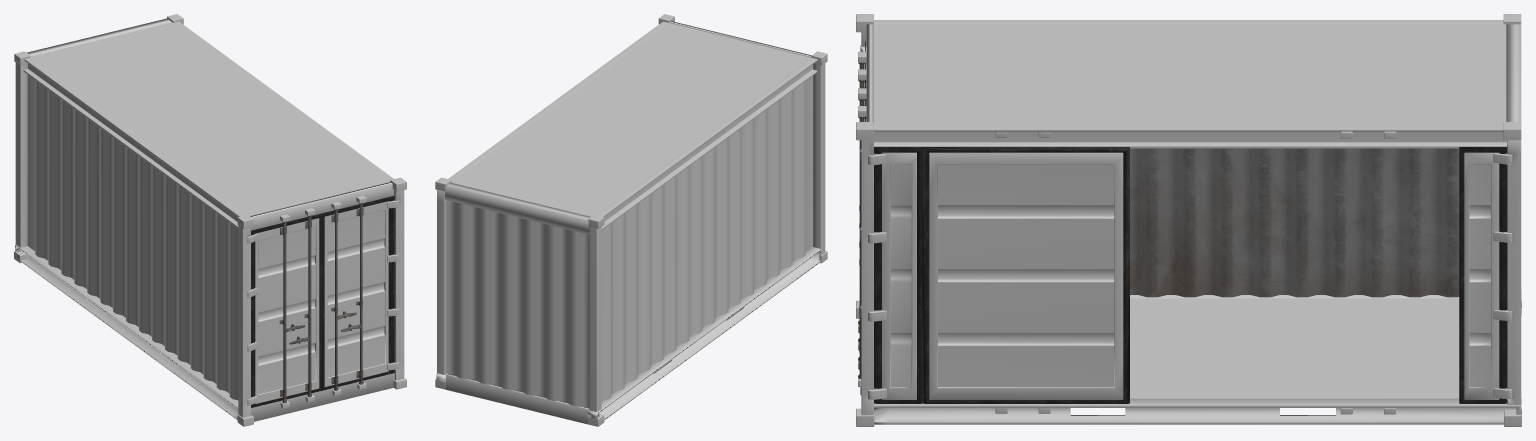
Rendered from SM_shipping_container.gltf.
3 renders of one model, left to right at view 1: azimuth 30°, elevation 25°; view 2: azimuth 150°, elevation 25°; view 3: azimuth 270°, elevation 25°, orthographic. The views are drawn at different scales.
Parts seen in each view (by area): view 1: SM_shipping_container; view 2: SM_shipping_container; view 3: SM_shipping_container.
Part boxes in pixels (left/top/right/bottom): SM_shipping_container: left=14, top=14, right=406, bottom=426; SM_shipping_container: left=435, top=14, right=827, bottom=426; SM_shipping_container: left=856, top=14, right=1521, bottom=426.
Size of the model in its own units: 2.54 by 3.05 by 6.17.
